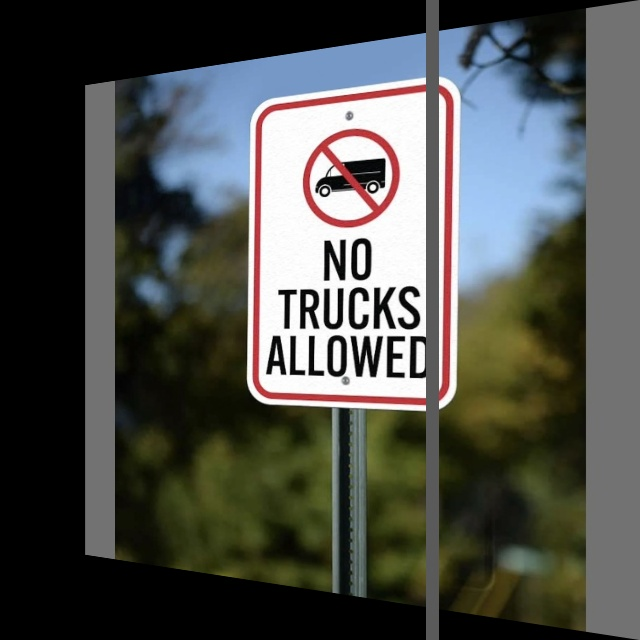Truck_Prohibited: (286, 107, 435, 237)
